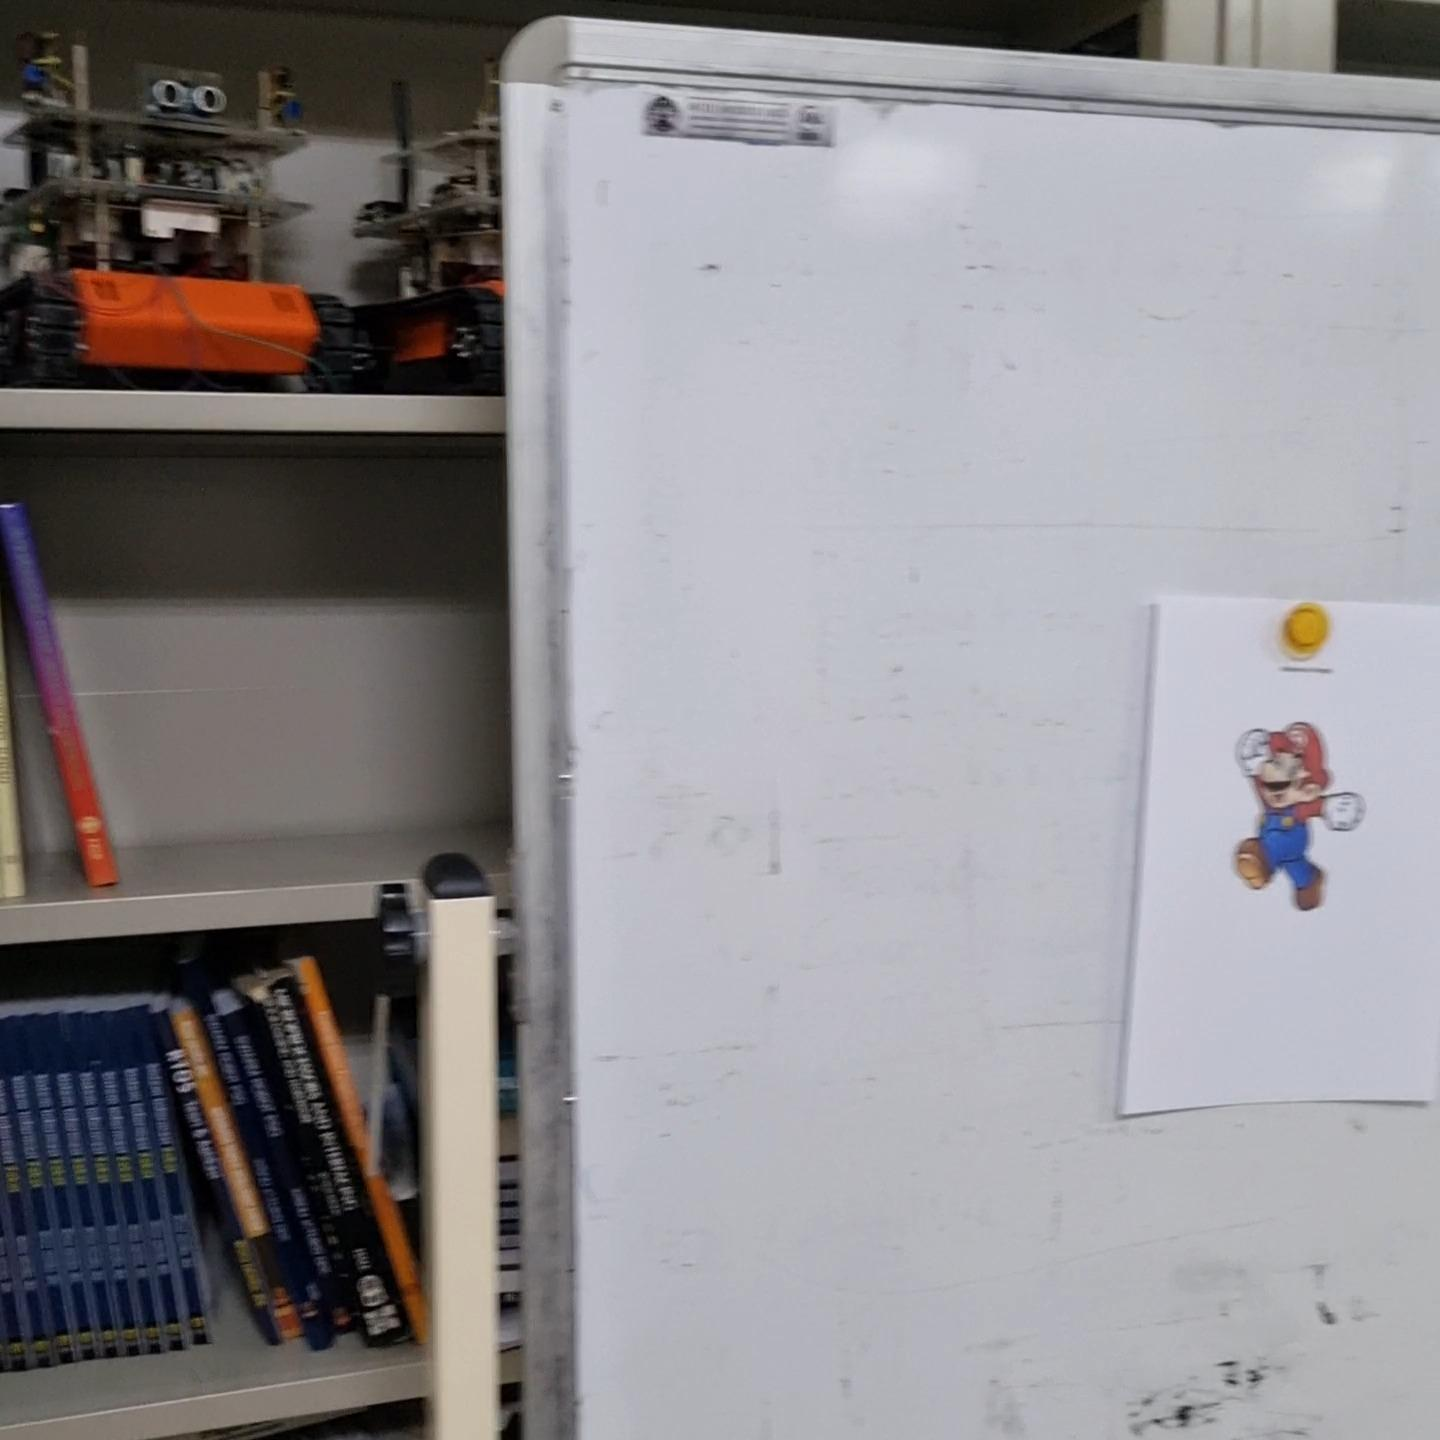mario: (1221, 702, 1370, 919)
